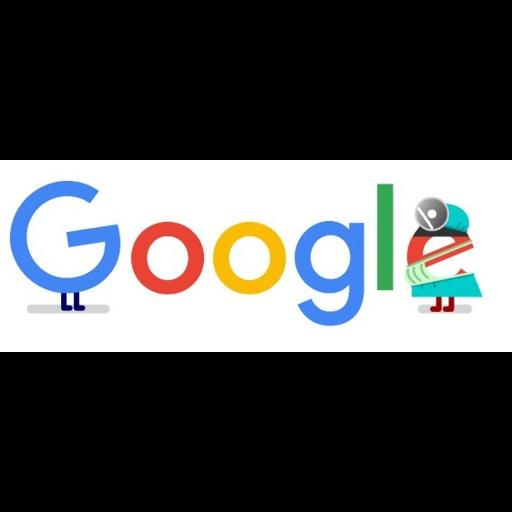Google: (0, 160, 512, 352)
